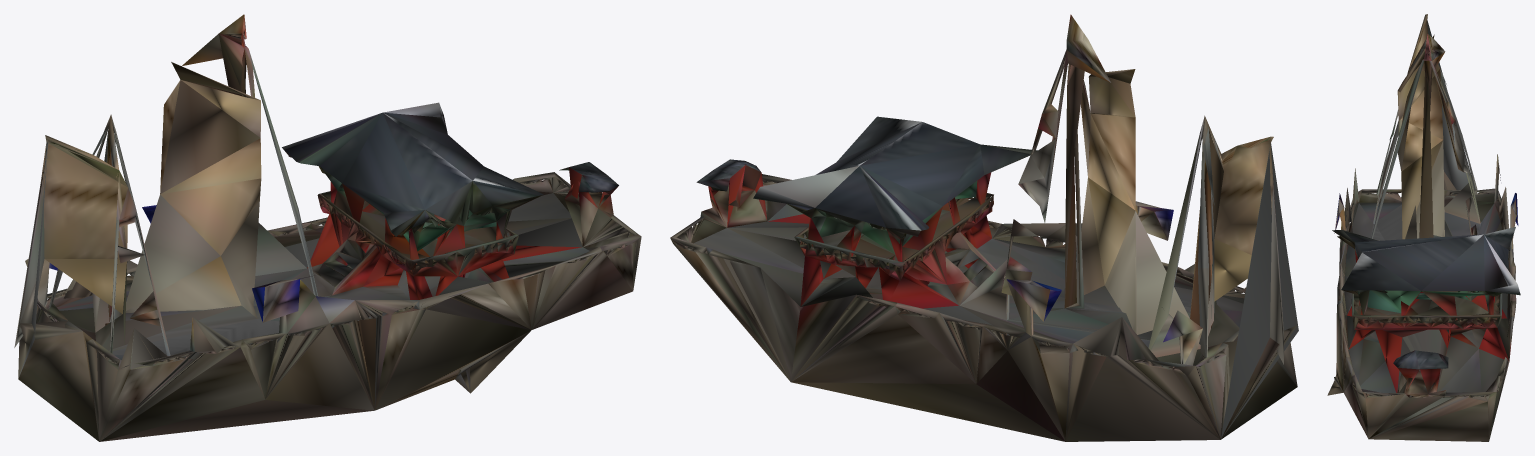
File: panokseon_a_lod2.glb
3 views of the same model, side by side, from view 1: azimuth 30°, elevation 25°; view 2: azimuth 150°, elevation 25°; view 3: azimuth 270°, elevation 25° (orthographic). The views are drawn at different scales.
Parts seen in each view (by area): view 1: tripo_node_a27f7bb5-dc1b-46c3-afa5-cda527f62ff0; view 2: tripo_node_a27f7bb5-dc1b-46c3-afa5-cda527f62ff0; view 3: tripo_node_a27f7bb5-dc1b-46c3-afa5-cda527f62ff0.
Boxes of the visible parts, left/top/right/bottom form: tripo_node_a27f7bb5-dc1b-46c3-afa5-cda527f62ff0: left=14, top=14, right=641, bottom=441; tripo_node_a27f7bb5-dc1b-46c3-afa5-cda527f62ff0: left=670, top=14, right=1298, bottom=441; tripo_node_a27f7bb5-dc1b-46c3-afa5-cda527f62ff0: left=1327, top=14, right=1520, bottom=441.
Bounding box in the file's own units: 0.8508 × 0.5541 × 0.3081.
Materials: 1 (1 with a texture image).
